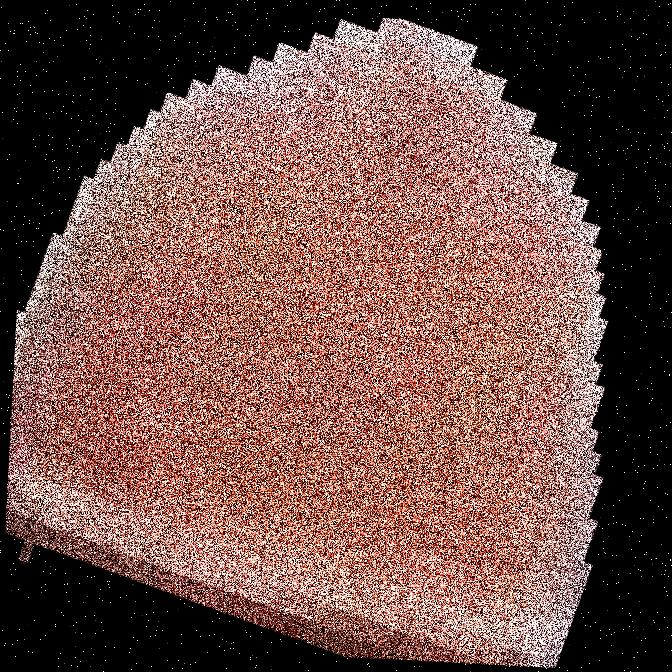Capacete: (167, 0, 495, 671)
